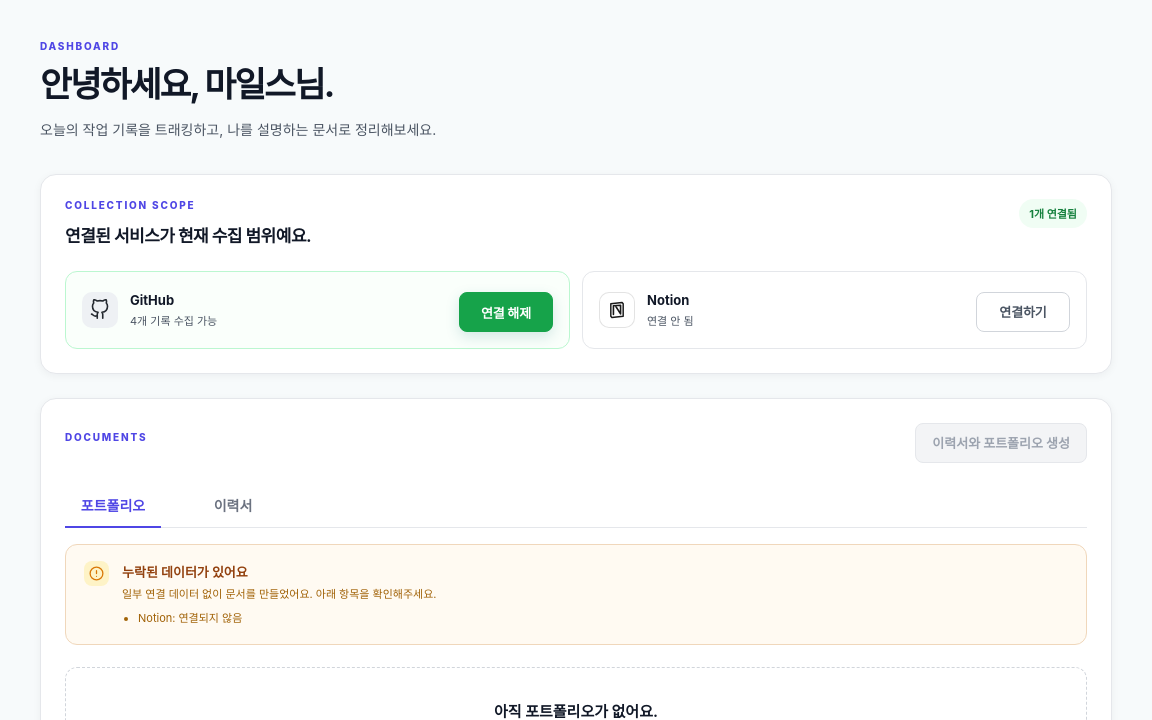
Test: DashboardPage › 이력서 탭에서 한 문서의 모든 버전을 최신순 목록으로 보여주고 현재 경로를 유지한다
Click the tab "이력서" at (233, 505), box [185, 483, 281, 527]
(page scrolled)
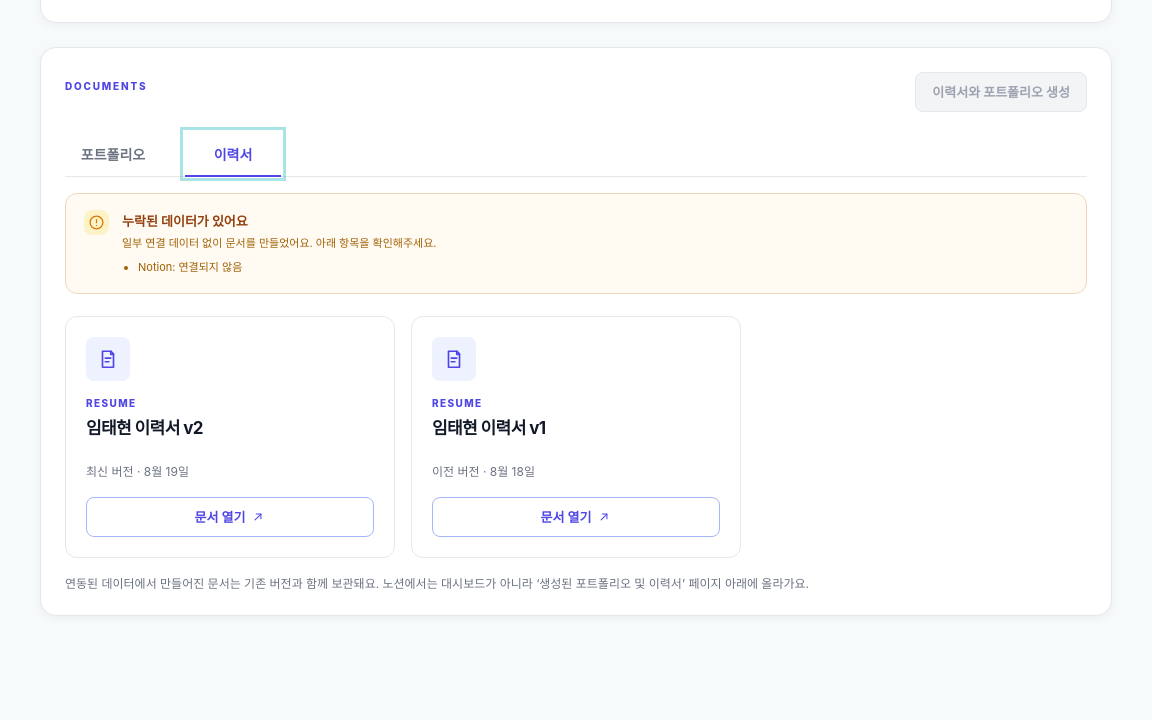
Check: the heading "임태현 이력서 v2" is shown, box [86, 418, 203, 438]
Check: the heading "임태현 이력서 v1" is shown, box [432, 418, 546, 438]
